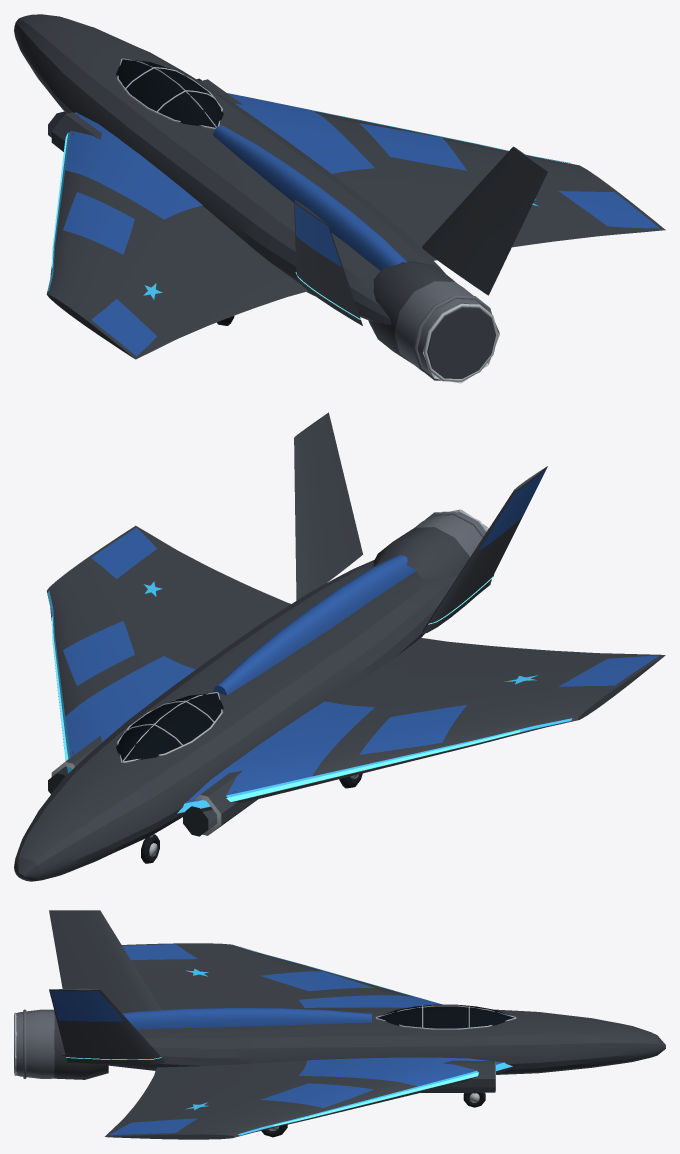
The model's file is game.glb.
3 renders of one model, top to bottom at view 1: azimuth 30°, elevation 25°; view 2: azimuth 150°, elevation 25°; view 3: azimuth 270°, elevation 25°, orthographic. The views are drawn at different scales.
Visible parts, largest first — view 1: game_body_Paint_Base, game_body_Paint_Secondary, game_body_Canopy_Glass_Dark, game_body_Metal_Heat, game_body_Metal_Detail, game_body_Paint_Accent; view 2: game_body_Paint_Base, game_body_Paint_Secondary, game_body_Canopy_Glass_Dark, game_body_Paint_Accent, game_body_Glow_Emit, game_body_Metal_Heat, game_body_Metal_Detail, game_body_Paint_Structural; view 3: game_body_Paint_Base, game_body_Paint_Secondary, game_body_Metal_Heat, game_body_Canopy_Glass_Dark, game_body_Paint_Accent, game_body_Glow_Emit, game_body_Metal_Detail, game_gear_Paint_Dark.
Boxes of the visible parts, x1,y1,x2,y2 form: game_body_Paint_Base: (14,14,665,378); game_body_Paint_Secondary: (63,93,659,355); game_body_Canopy_Glass_Dark: (116,59,223,127); game_body_Metal_Heat: (394,281,491,380); game_body_Metal_Detail: (117,58,499,383); game_body_Paint_Accent: (47,93,571,299); game_body_Paint_Base: (14,412,665,881); game_body_Paint_Secondary: (63,468,659,803); game_body_Canopy_Glass_Dark: (116,693,223,761); game_body_Paint_Accent: (47,581,572,813); game_body_Glow_Emit: (51,577,520,801); game_body_Metal_Heat: (414,511,491,594); game_body_Metal_Detail: (51,509,494,835); game_body_Paint_Structural: (48,773,208,836); game_body_Paint_Base: (14,910,665,1139); game_body_Paint_Secondary: (50,944,503,1135); game_body_Metal_Heat: (16,1009,54,1078); game_body_Canopy_Glass_Dark: (377,1004,514,1028); game_body_Paint_Accent: (185,946,512,1135); game_body_Glow_Emit: (66,1057,478,1126); game_body_Metal_Detail: (14,1005,516,1091); game_gear_Paint_Dark: (261,1092,485,1137).
Bounding box in the file's own units: 11 × 4.41 × 15.85.
